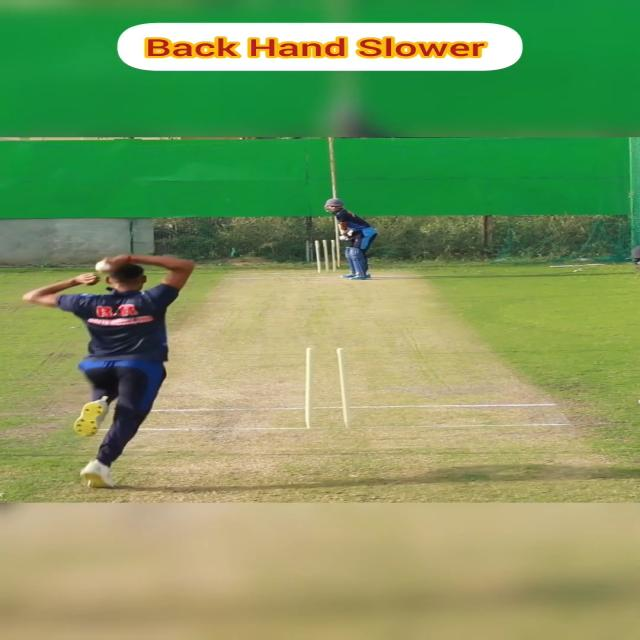stump: (304, 346, 352, 429), (314, 239, 338, 273)
